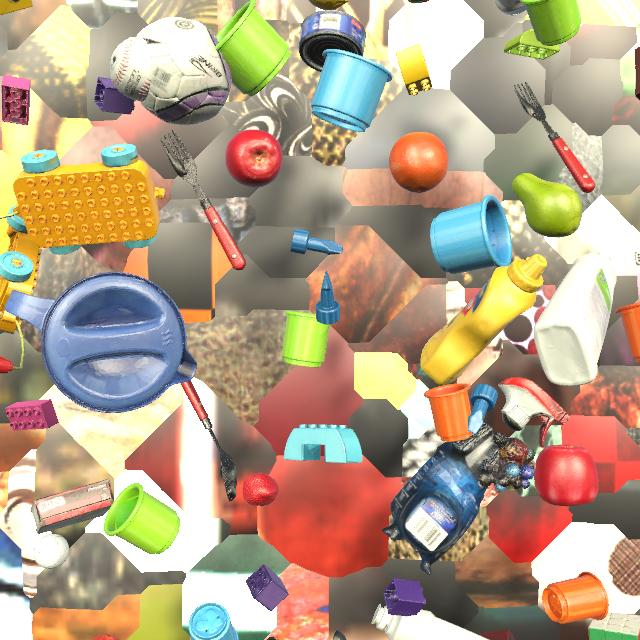ycb_006_mustard_bottle: (420, 254, 547, 386)
ycb_007_tuna_fish_can: (298, 10, 366, 72)
ycb_008_pudding_box: (30, 479, 114, 534)
ycb_012_strawberry: (242, 473, 279, 506), (407, 0, 429, 3)
ycb_013_apple: (534, 444, 599, 506), (225, 129, 283, 188)
ycb_014_lemon: (308, 0, 349, 10)
ycb_016_pear: (512, 173, 582, 238)
ycb_017_orange: (389, 132, 449, 193)
